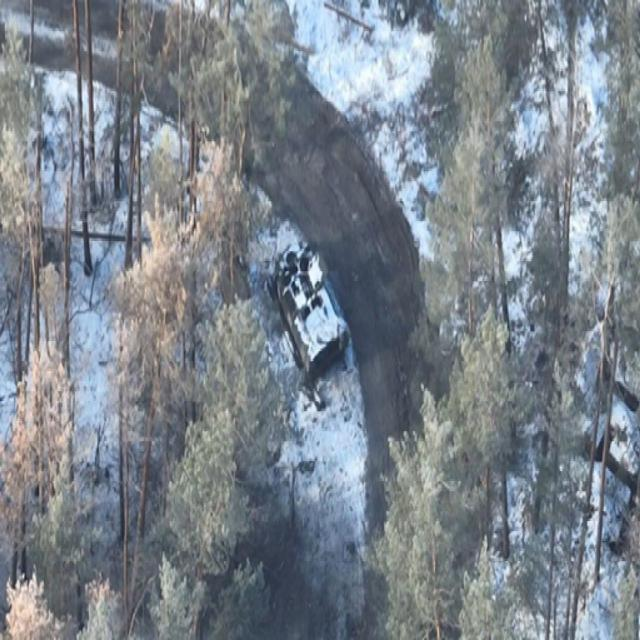APC-IFV: (250, 220, 349, 389)
